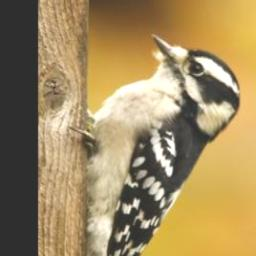Woodpecker: (73, 32, 242, 256)
